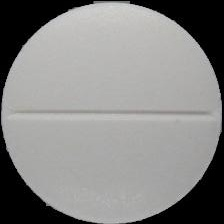33261-385: (0, 0, 224, 224)
